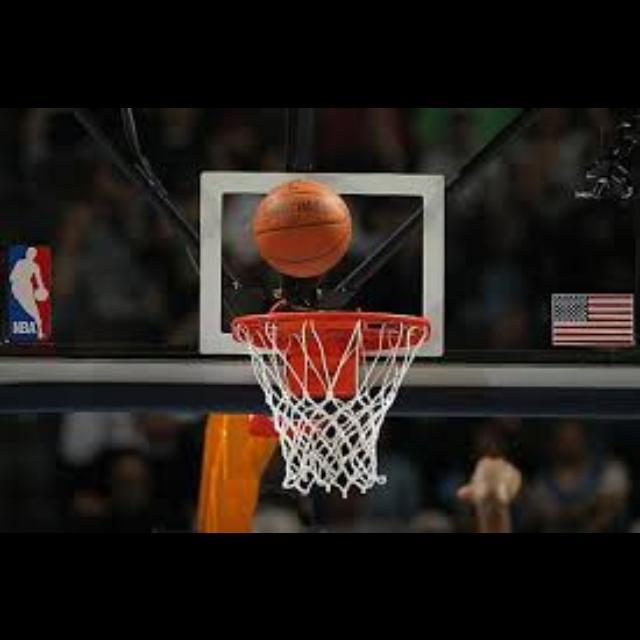basketball: (256, 182, 350, 276)
rim: (233, 312, 432, 496)
